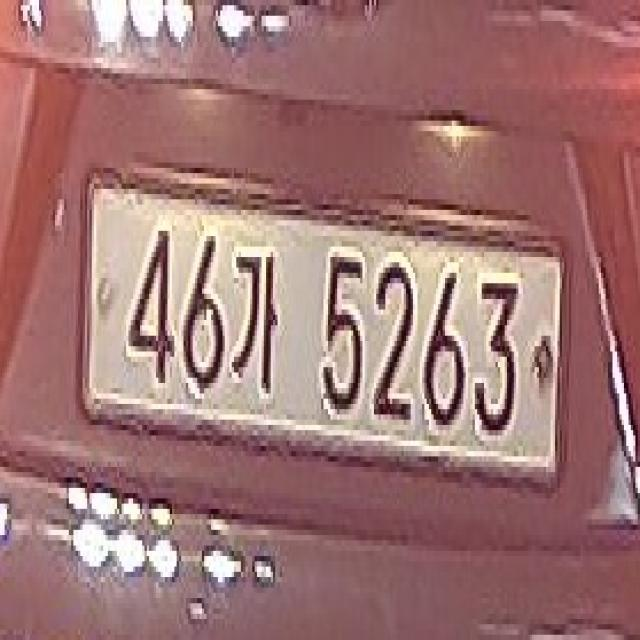plat: (79, 162, 567, 486)
